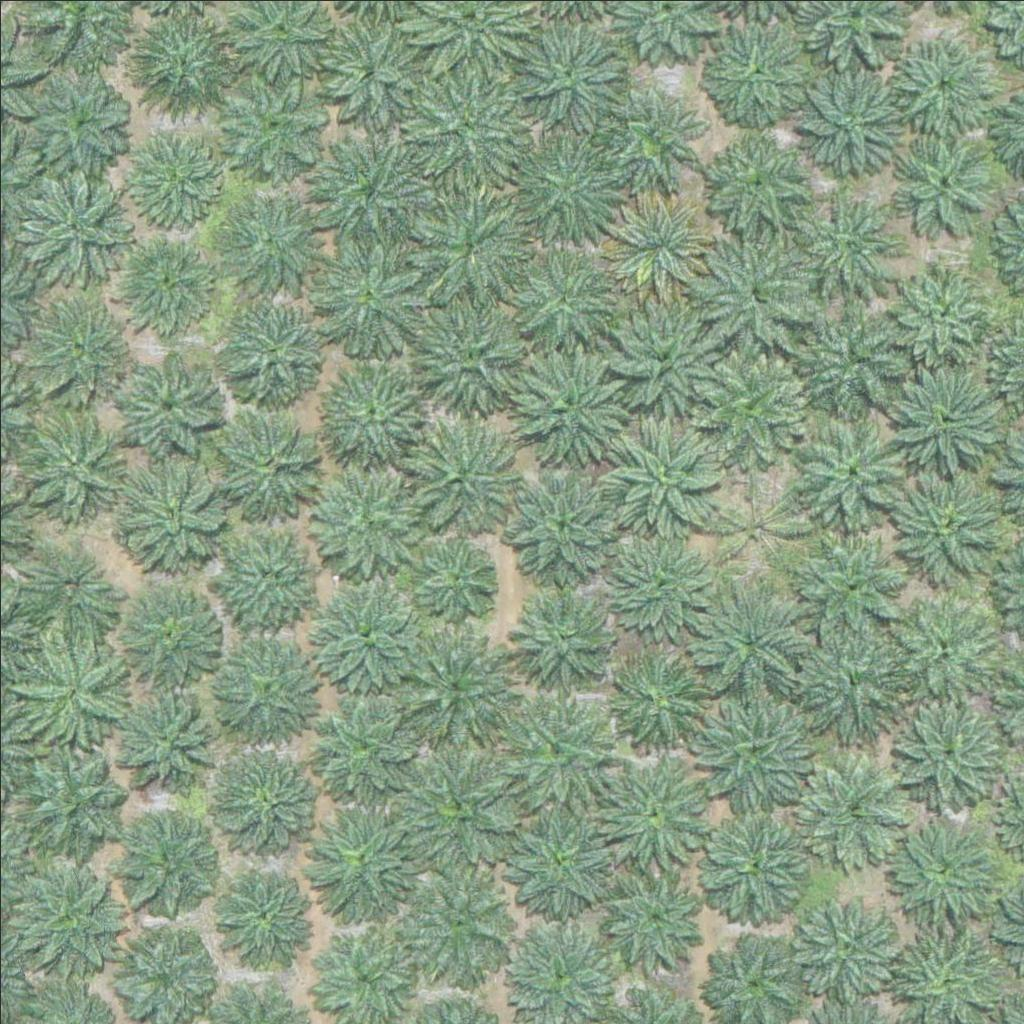Kelapa_Sawit: (875, 802, 1000, 928), (306, 677, 431, 803), (392, 620, 517, 746), (408, 179, 533, 305), (402, 60, 527, 186), (890, 694, 1015, 820), (311, 806, 424, 920), (309, 354, 422, 468), (403, 420, 516, 534), (317, 239, 430, 353), (599, 757, 712, 871), (504, 467, 617, 581), (9, 861, 122, 974), (403, 863, 516, 976), (590, 858, 703, 971), (697, 812, 810, 925), (15, 401, 128, 514), (112, 572, 225, 685), (117, 450, 230, 563), (210, 742, 323, 855), (209, 629, 322, 742), (20, 170, 133, 283), (312, 15, 425, 128), (310, 134, 423, 247), (417, 296, 530, 409), (516, 351, 629, 464), (886, 596, 999, 709), (799, 303, 912, 416), (791, 411, 904, 524), (795, 528, 908, 641), (801, 626, 914, 739), (695, 350, 808, 463), (501, 698, 614, 811), (601, 185, 714, 298), (699, 232, 812, 345), (703, 127, 816, 240), (127, 8, 239, 122), (221, 72, 333, 186), (796, 756, 908, 870), (696, 696, 808, 810), (601, 519, 713, 633), (504, 909, 616, 1022), (500, 807, 612, 920), (787, 883, 899, 996), (13, 742, 125, 855), (212, 511, 324, 624), (215, 403, 327, 516), (311, 575, 423, 688), (312, 464, 424, 577), (403, 753, 515, 866), (505, 241, 617, 354), (515, 132, 627, 245), (515, 21, 627, 134), (884, 472, 996, 585), (888, 365, 1000, 478), (694, 585, 806, 698), (609, 301, 721, 414), (608, 423, 720, 536), (792, 187, 904, 300), (705, 475, 805, 576), (22, 637, 122, 738), (16, 543, 116, 644), (28, 296, 128, 397), (122, 807, 222, 908), (111, 690, 211, 791), (120, 356, 220, 457), (888, 257, 988, 358), (706, 19, 806, 120), (799, 74, 899, 175), (891, 125, 991, 226), (209, 859, 309, 959), (225, 303, 325, 403), (25, 75, 125, 175), (120, 231, 220, 331), (124, 124, 224, 224), (219, 192, 319, 292), (610, 649, 710, 749), (511, 591, 611, 691), (890, 33, 990, 133), (609, 94, 696, 183), (422, 539, 497, 615)
